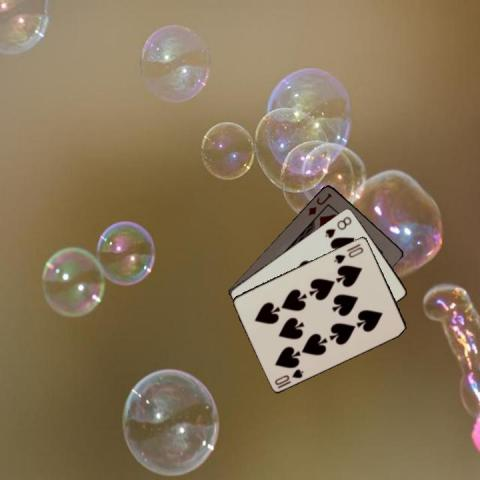10s: (331, 244, 365, 265), (271, 365, 305, 386)
8s: (322, 214, 353, 240)
Jd: (306, 189, 334, 217)
